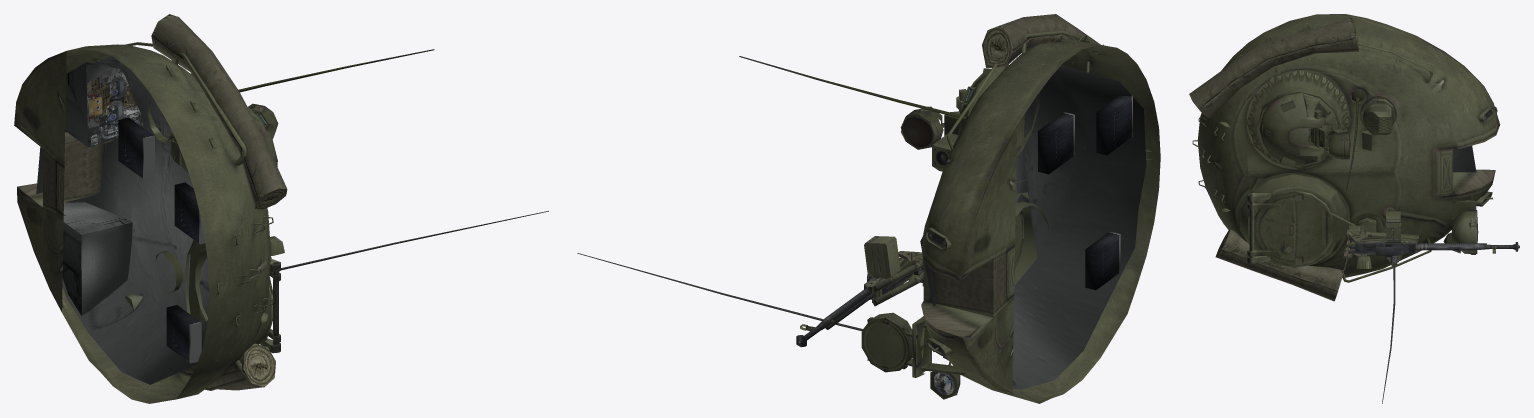
Rendered from turret-t55.glb.
3 renders of one model, left to right at view 1: azimuth 30°, elevation 25°; view 2: azimuth 150°, elevation 25°; view 3: azimuth 270°, elevation 25°, orthographic. The views are drawn at different scales.
Parts seen in each view (by area): view 1: turret, interior.001, gear101, gear102, mount2, command-antenna; view 2: turret, interior.001, lens, gear101, mg-bracket, weapon3, command-antenna; view 3: turret, gear101, mount2, hatch, gear102, hatch2, weapon3, mg-bracket, interior.001, mount3, command-antenna.
Boxes of the visible parts, x1,y1,x2,y2 form: turret: [14, 42, 434, 403]; interior.001: [36, 56, 209, 384]; gear101: [151, 14, 287, 209]; gear102: [179, 343, 275, 390]; mount2: [260, 259, 280, 353]; command-antenna: [125, 211, 548, 309]; turret: [739, 31, 1160, 403]; interior.001: [920, 65, 1146, 389]; lens: [861, 87, 974, 399]; gear101: [982, 14, 1100, 68]; mg-bracket: [864, 236, 923, 306]; weapon3: [796, 257, 923, 347]; command-antenna: [577, 253, 862, 330]; turret: [1192, 14, 1500, 282]; gear101: [1189, 17, 1359, 118]; mount2: [1247, 190, 1355, 266]; hatch: [1259, 92, 1324, 167]; gear102: [1215, 229, 1343, 301]; hatch2: [1247, 197, 1296, 261]; weapon3: [1348, 236, 1519, 256]; mg-bracket: [1346, 211, 1419, 268]; interior.001: [1296, 145, 1476, 231]; mount3: [1342, 225, 1367, 269]; command-antenna: [1382, 255, 1402, 403].
Bounding box in the file's own units: 2.7 × 2.06 × 2.2.
Materials: 6 (6 with a texture image).
